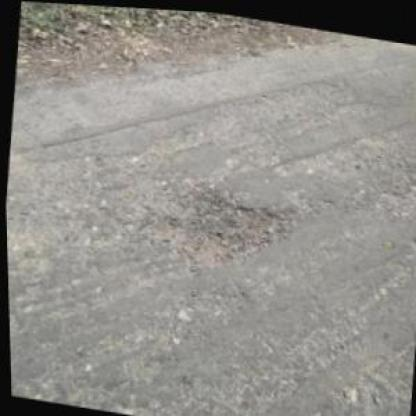pothole: (136, 178, 295, 278)
